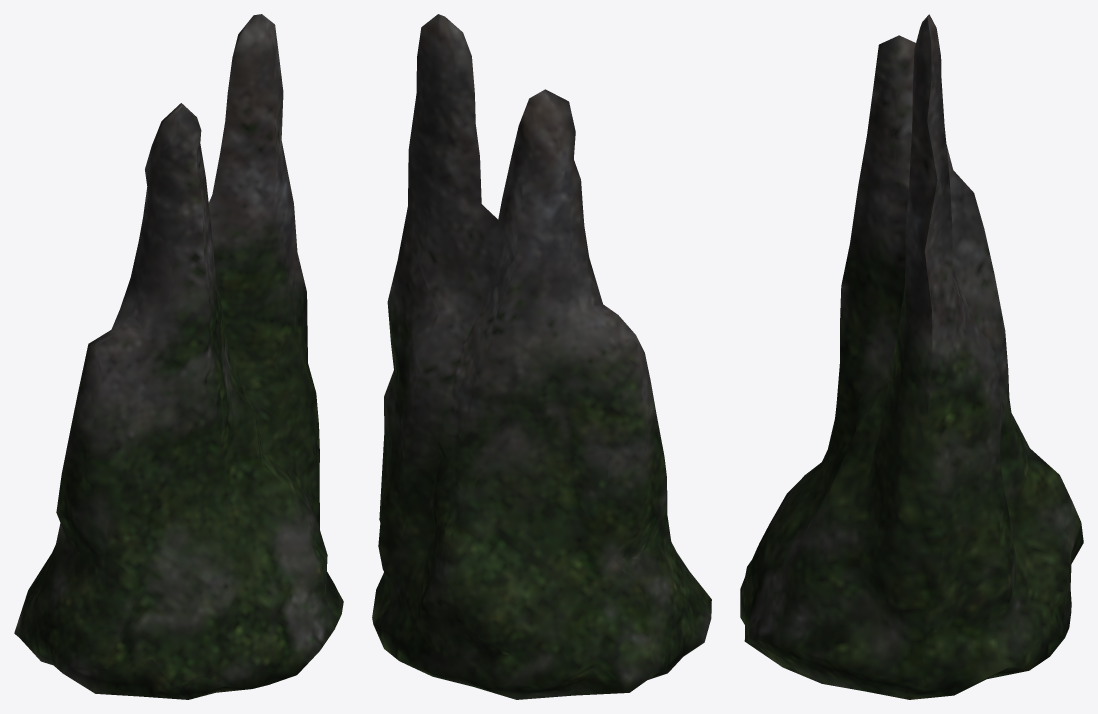
Rendered from MossRockBottomA.fbx.
3 views of the same model, side by side, from view 1: azimuth 30°, elevation 25°; view 2: azimuth 150°, elevation 25°; view 3: azimuth 270°, elevation 25° (orthographic). The views are drawn at different scales.
Parts seen in each view (by area): view 1: CaveMossRockBottom2; view 2: CaveMossRockBottom2; view 3: CaveMossRockBottom2.
Boxes of the visible parts, box(x1,y1,x2,y2) form: CaveMossRockBottom2: box(14, 14, 343, 699); CaveMossRockBottom2: box(372, 14, 711, 699); CaveMossRockBottom2: box(740, 14, 1083, 699).
Bounding box in the file's own units: 53.81 × 108 × 50.43.
1 material, 1 textured.
